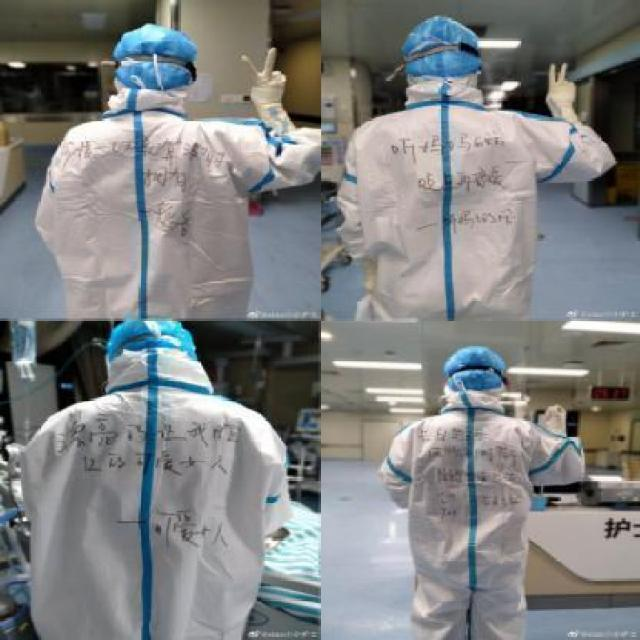gloves: (240, 48, 289, 108), (546, 63, 580, 114), (542, 404, 570, 434)
